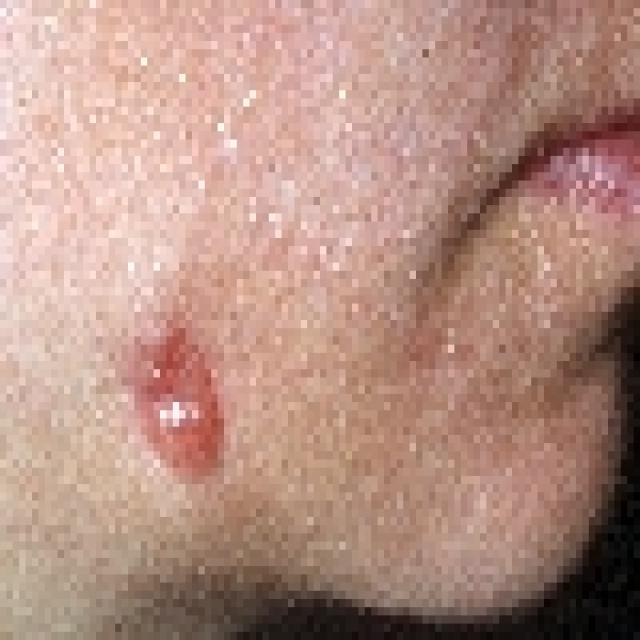lupus: (125, 317, 242, 493)
